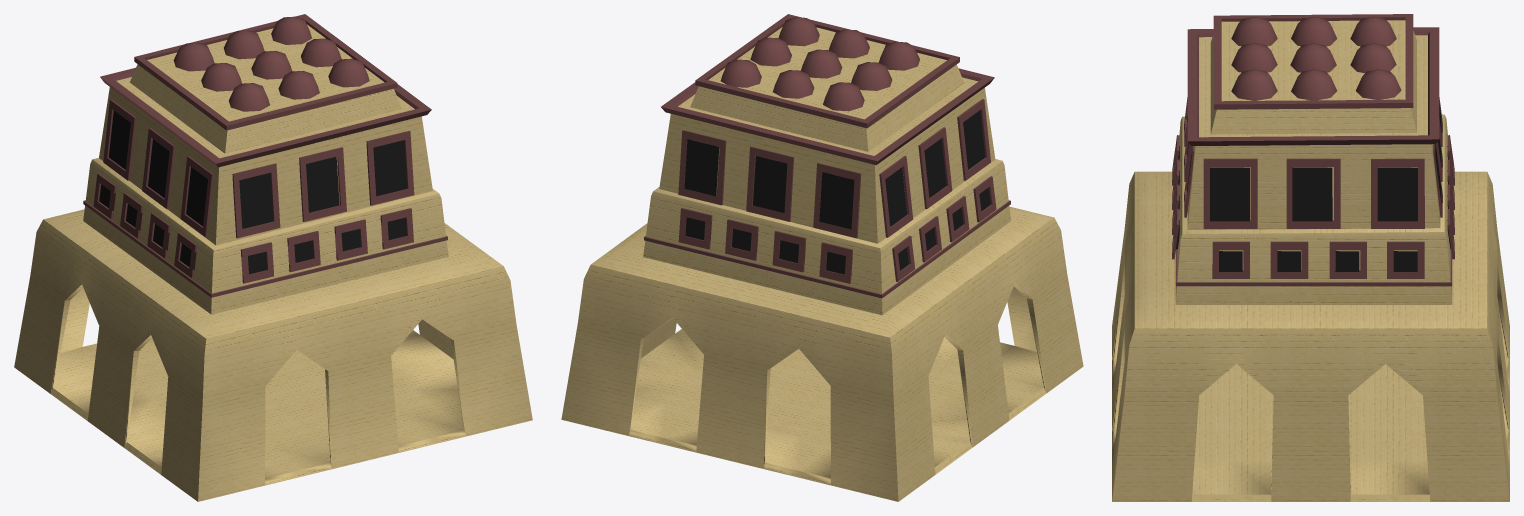
The model's file is Hut.obj.
3 renders of one model, left to right at view 1: azimuth 30°, elevation 25°; view 2: azimuth 150°, elevation 25°; view 3: azimuth 270°, elevation 25°, orthographic. The views are drawn at different scales.
Parts seen in each view (by area): view 1: Box004, FixedWindow033, Object002, Sphere001, Shape001, Rectangle001; view 2: Box004, FixedWindow033, Object002, Sphere001, Shape001, Rectangle001; view 3: Box004, FixedWindow033, Shape001, Sphere001, Object002, Rectangle001.
Boxes of the visible parts, box(x1,y1,x2,y2) form: Box004: box(14, 24, 532, 501); FixedWindow033: box(93, 99, 414, 283); Object002: box(99, 110, 407, 274); Sphere001: box(173, 16, 369, 111); Shape001: box(100, 14, 431, 167); Rectangle001: box(83, 200, 447, 297); Box004: box(561, 27, 1083, 501); FixedWindow033: box(678, 99, 996, 283); Object002: box(684, 110, 990, 274); Sphere001: box(720, 17, 919, 111); Shape001: box(661, 14, 994, 164); Rectangle001: box(644, 200, 1010, 298); Box004: box(1112, 20, 1509, 501); FixedWindow033: box(1172, 97, 1454, 278); Shape001: box(1187, 14, 1439, 145); Sphere001: box(1231, 17, 1401, 100); Object002: box(1176, 102, 1450, 271); Rectangle001: box(1175, 249, 1452, 286).
Bounding box in the file's own units: 24.03 × 23.43 × 22.85.
